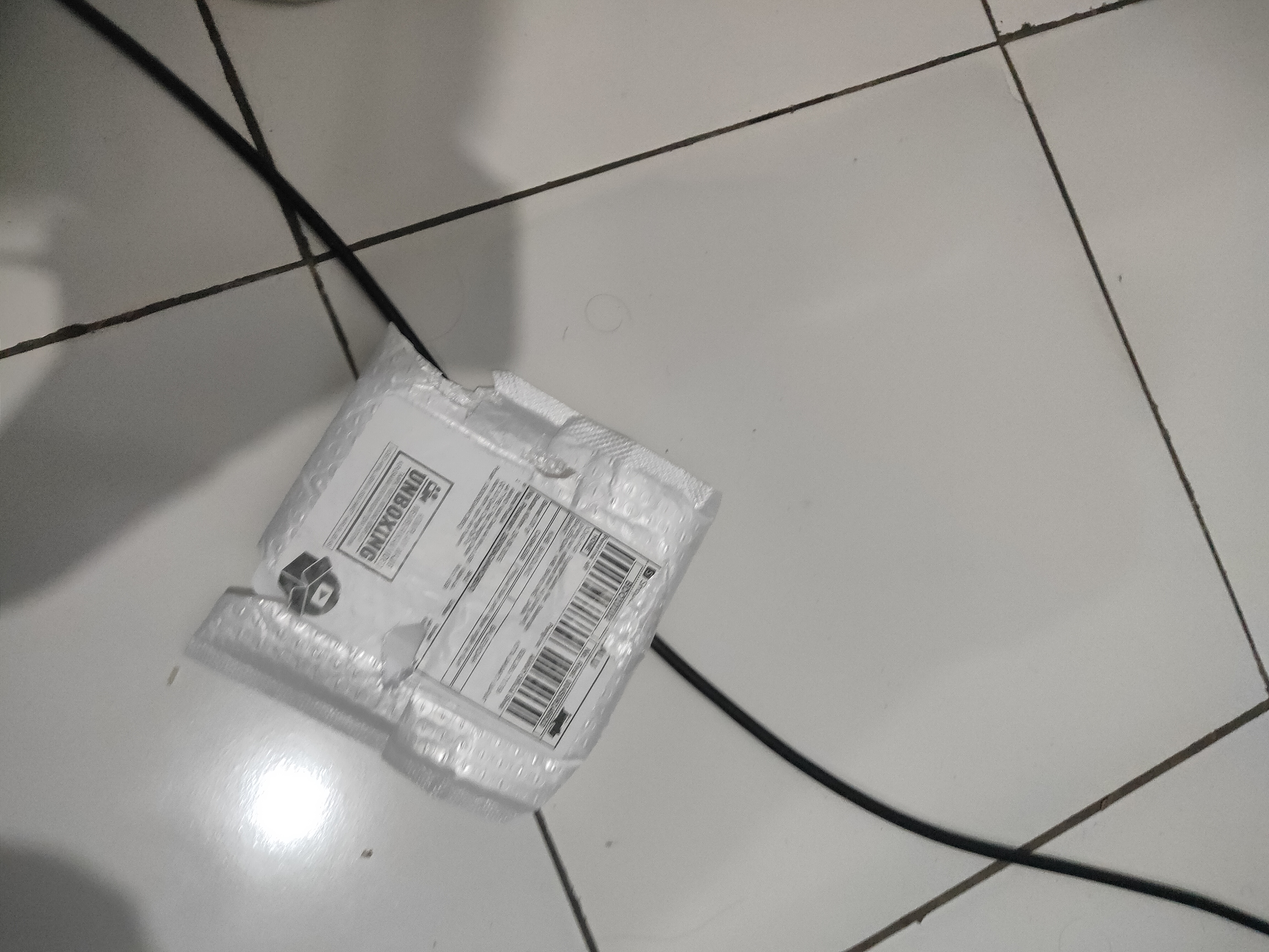damaged package: (390, 322, 506, 407), (597, 554, 672, 678), (224, 540, 291, 612), (376, 620, 432, 697), (513, 443, 586, 480)
undamaged: (176, 316, 728, 824)
